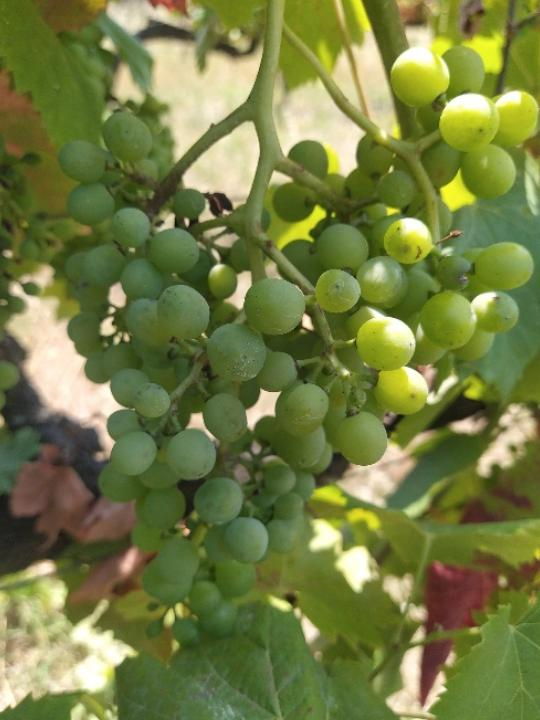grape: (57, 44, 540, 652)
